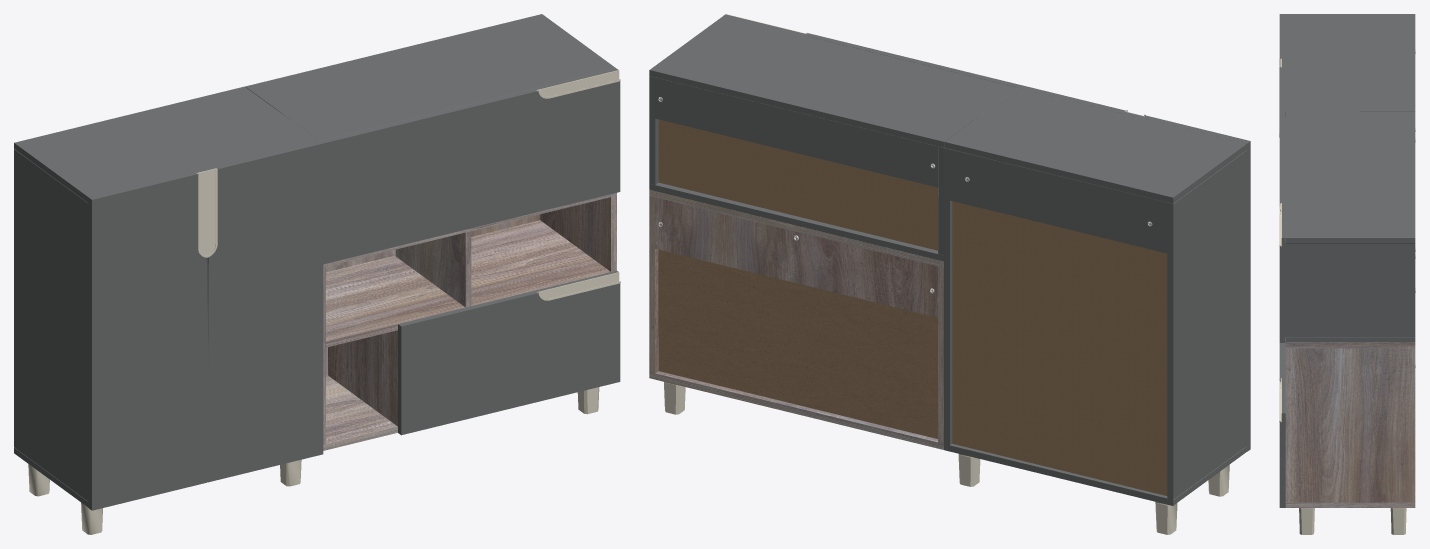
3 renders of one model, left to right at view 1: azimuth 30°, elevation 25°; view 2: azimuth 150°, elevation 25°; view 3: azimuth 270°, elevation 25°, orthographic. The views are drawn at different scales.
Parts seen in each view (by area): view 1: group_0.582, group_0.044, group_0.301, group_0.045; view 2: group_0.582, group_0.043, group_0.044, group_0.008, group_0.301, group_0.136, group_0.045; view 3: group_0.044, group_0.301, group_0.582, group_0.045.
Part boxes in pixels (x1,y1,x2,y2): group_0.582: [14, 86, 323, 510]; group_0.044: [245, 14, 620, 435]; group_0.301: [323, 193, 616, 450]; group_0.045: [28, 70, 620, 534]; group_0.582: [944, 85, 1250, 505]; group_0.043: [952, 201, 1167, 495]; group_0.044: [649, 14, 1020, 261]; group_0.008: [658, 249, 937, 438]; group_0.301: [649, 189, 943, 449]; group_0.136: [658, 119, 937, 250]; group_0.045: [664, 14, 1229, 534]; group_0.044: [1279, 112, 1415, 507]; group_0.301: [1285, 337, 1415, 507]; group_0.582: [1279, 14, 1415, 116]; group_0.045: [1279, 58, 1406, 534].
Bounding box in the file's own units: 1.6 × 1 × 0.4118.
8 materials, 3 textured.
